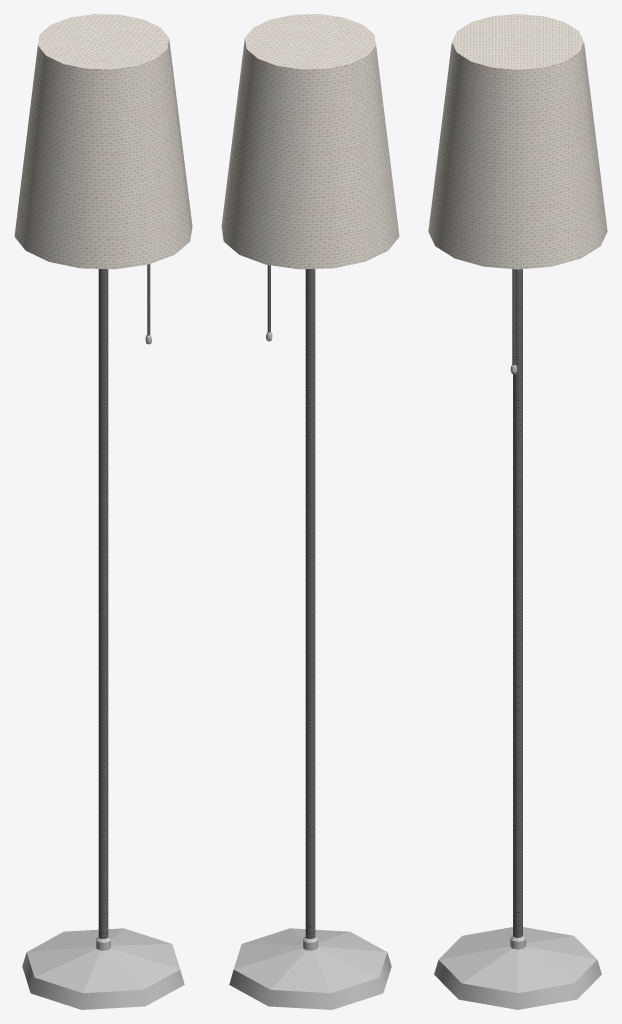
The model's file is M_Lamp.FBX.
The picture shows the model from 3 angles, left to right: view 1: azimuth 30°, elevation 25°; view 2: azimuth 150°, elevation 25°; view 3: azimuth 270°, elevation 25°; orthographic projection.
Parts seen in each view (by area): view 1: Lamp; view 2: Lamp; view 3: Lamp.
Part boxes in pixels (x1,y1,x2,y2): Lamp: (14, 14, 192, 1009); Lamp: (221, 14, 399, 1009); Lamp: (428, 14, 607, 1009).
Bounding box in the file's own units: 33.97 × 195 × 33.97.
